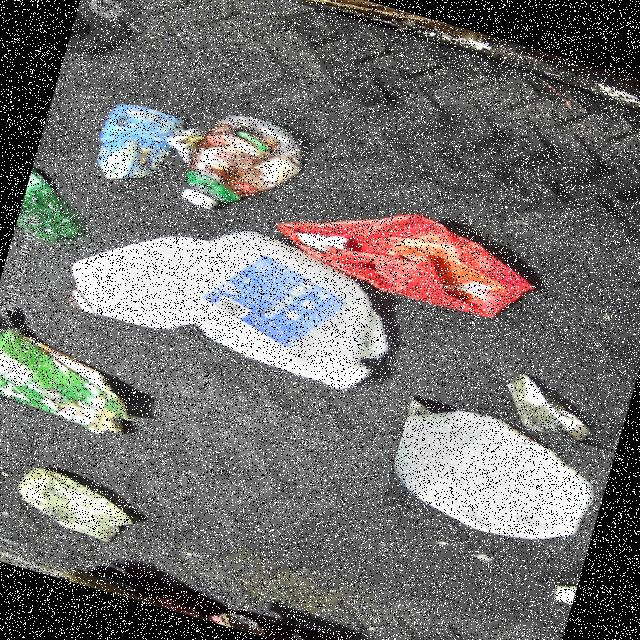milk-jug: (381, 394, 615, 562)
